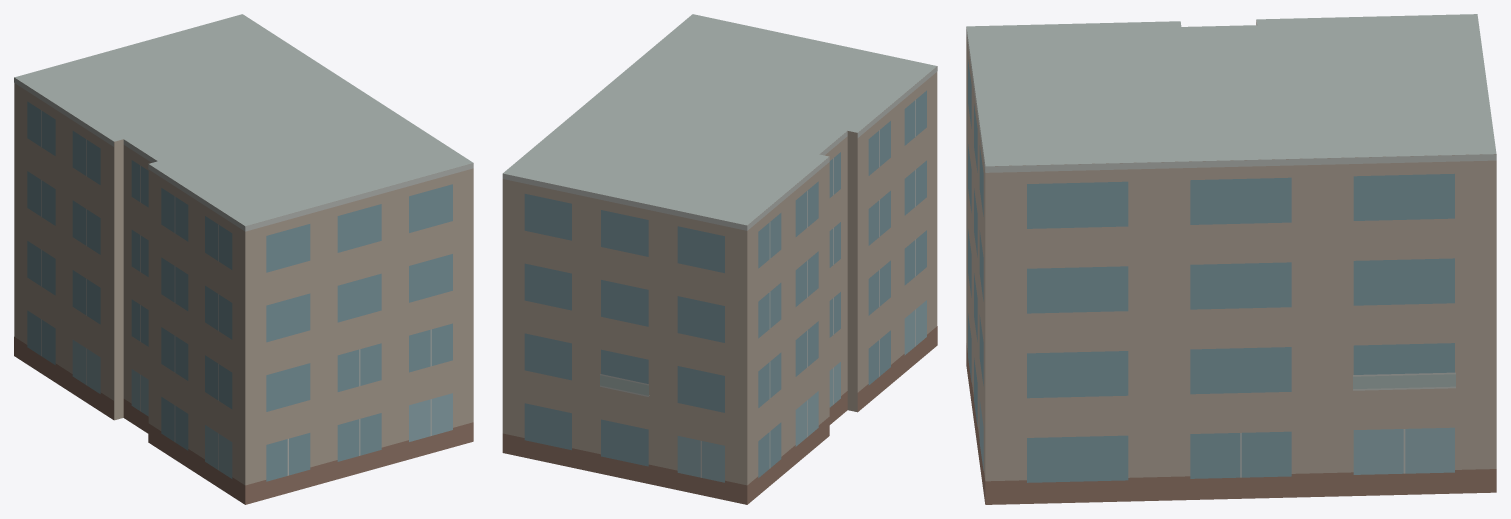
The model's file is survey-upis-32531215.glb.
3 views of the same model, side by side, from view 1: azimuth 30°, elevation 25°; view 2: azimuth 150°, elevation 25°; view 3: azimuth 270°, elevation 25° (orthographic). The views are drawn at different scales.
Visible parts, largest first — view 1: survey-upis-32531215.tmp; view 2: survey-upis-32531215.tmp; view 3: survey-upis-32531215.tmp.
Part boxes in pixels (x1,y1,x2,y2): survey-upis-32531215.tmp: (14,14,473,504); survey-upis-32531215.tmp: (502,14,937,504); survey-upis-32531215.tmp: (966,14,1496,504).
Size of the model in its own units: 12.17 by 12.6 by 17.89.
